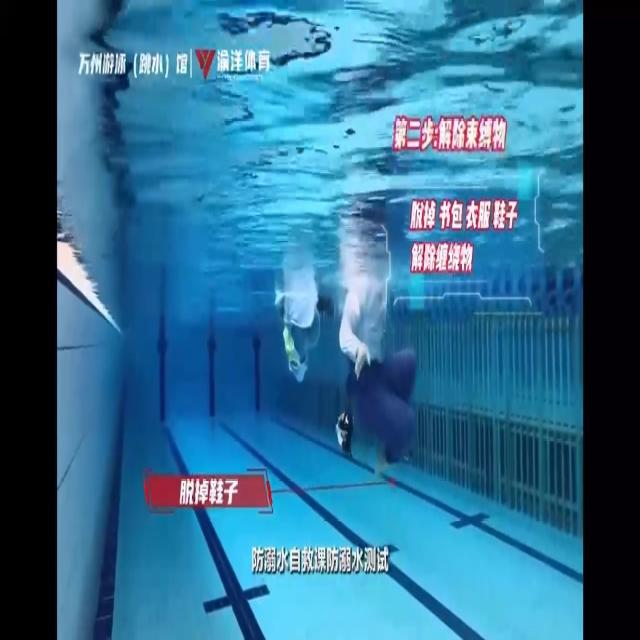Drowning: (339, 272, 416, 478)
